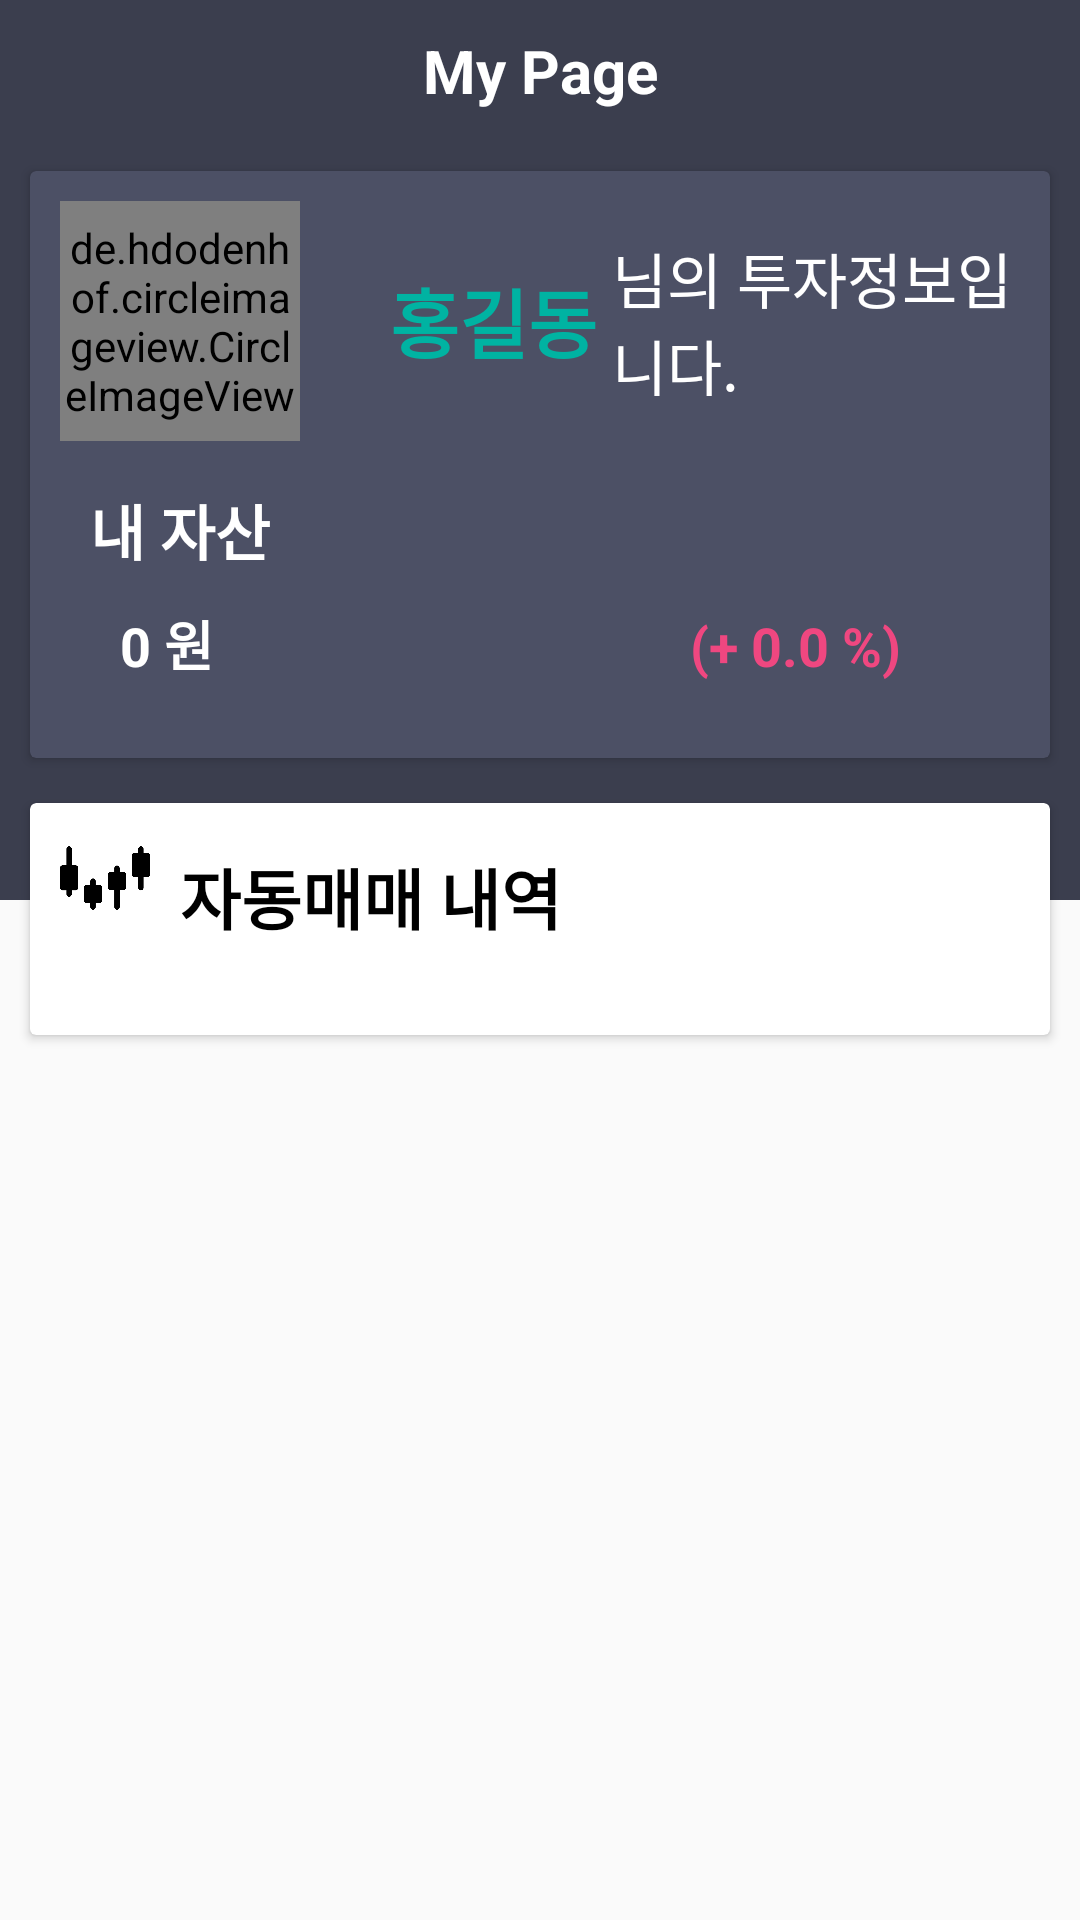

Screen size 1080*1920. Icon name, then its center in pixels as (x=x, y=y):
sellbuy: (x=105, y=878)
